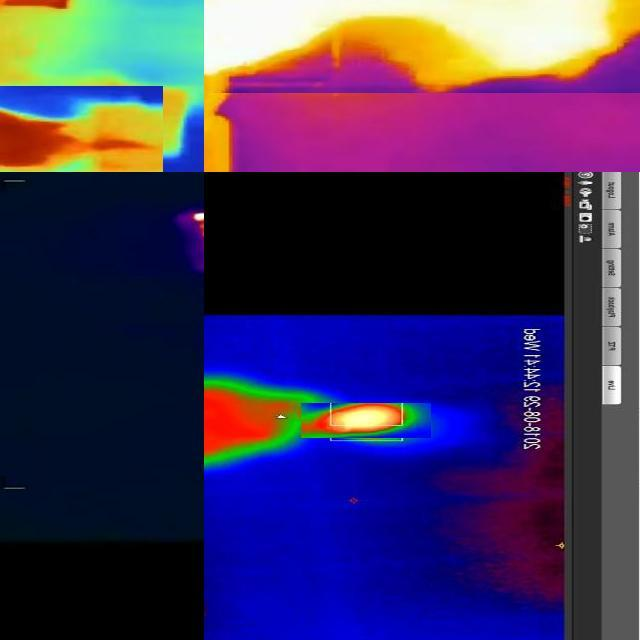fire: (205, 1, 640, 92), (1, 87, 191, 173), (301, 404, 431, 439), (204, 61, 237, 173), (187, 207, 205, 240)
